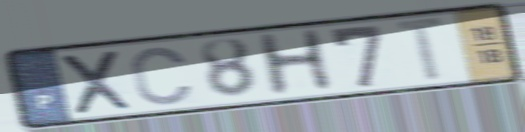7: (325, 23, 386, 90)
8: (199, 37, 257, 103)
C: (128, 44, 197, 108)
H: (252, 26, 338, 100)
T: (390, 14, 454, 86)
X: (55, 47, 138, 117)
